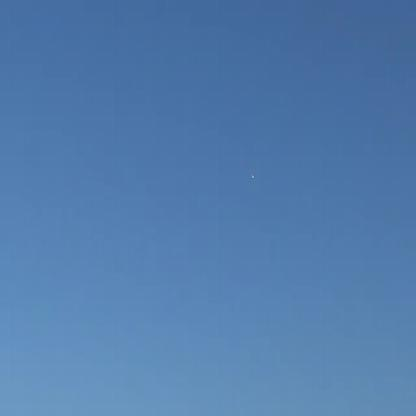CIV_Plane: (249, 170, 258, 182)
